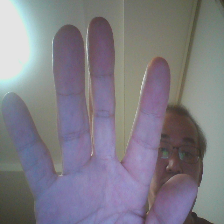hand: (6, 23, 194, 223)
